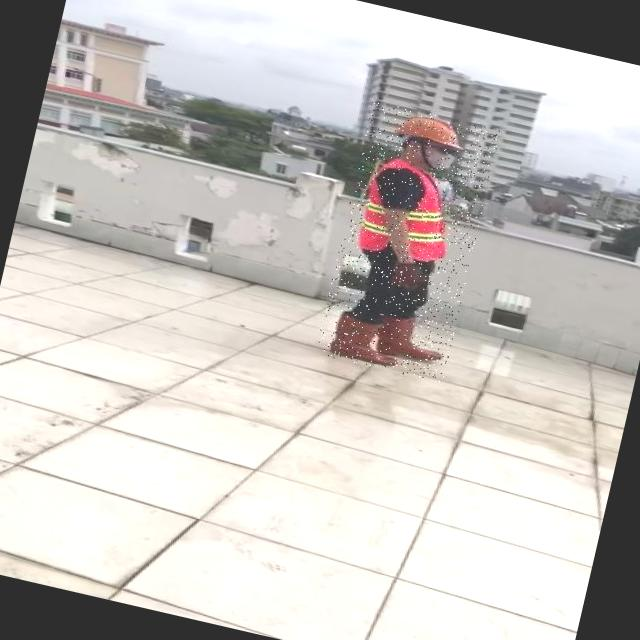boots: (323, 312, 402, 368), (373, 312, 446, 364)
helmet: (394, 110, 469, 150)
vest: (350, 160, 459, 265)
